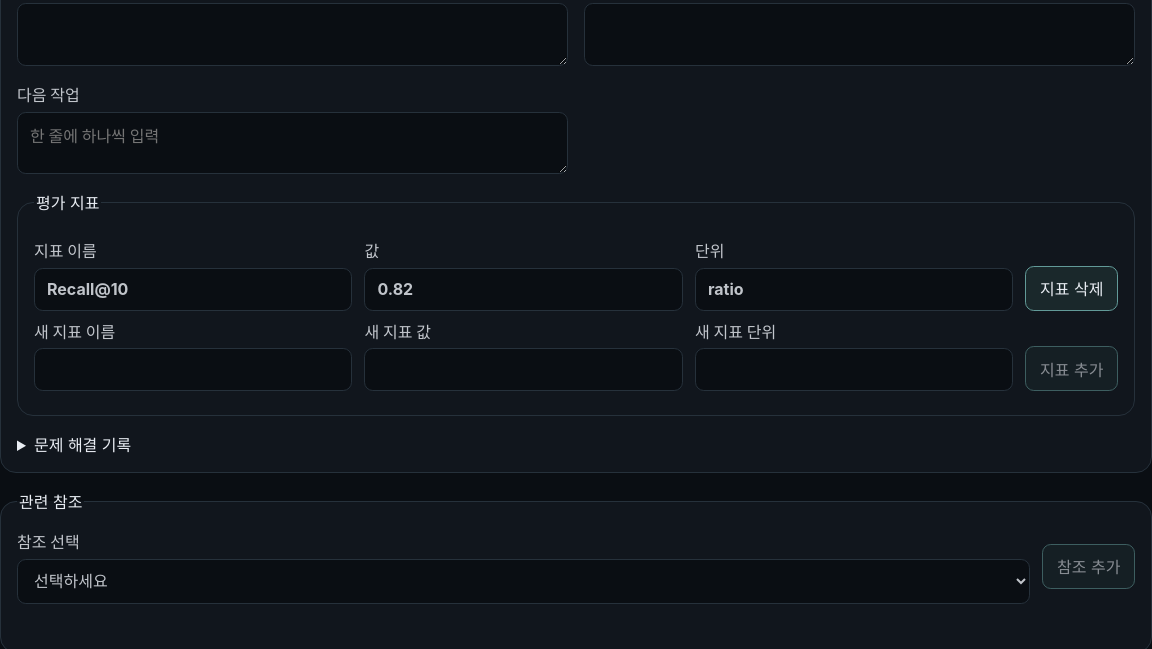
Test: LearningEditor › does not turn a cleared saved metric into a fabricated zero
(page scrolled)
Clear the number field labelled "값" at (524, 289), box [364,268,683,311]
(page scrolled)
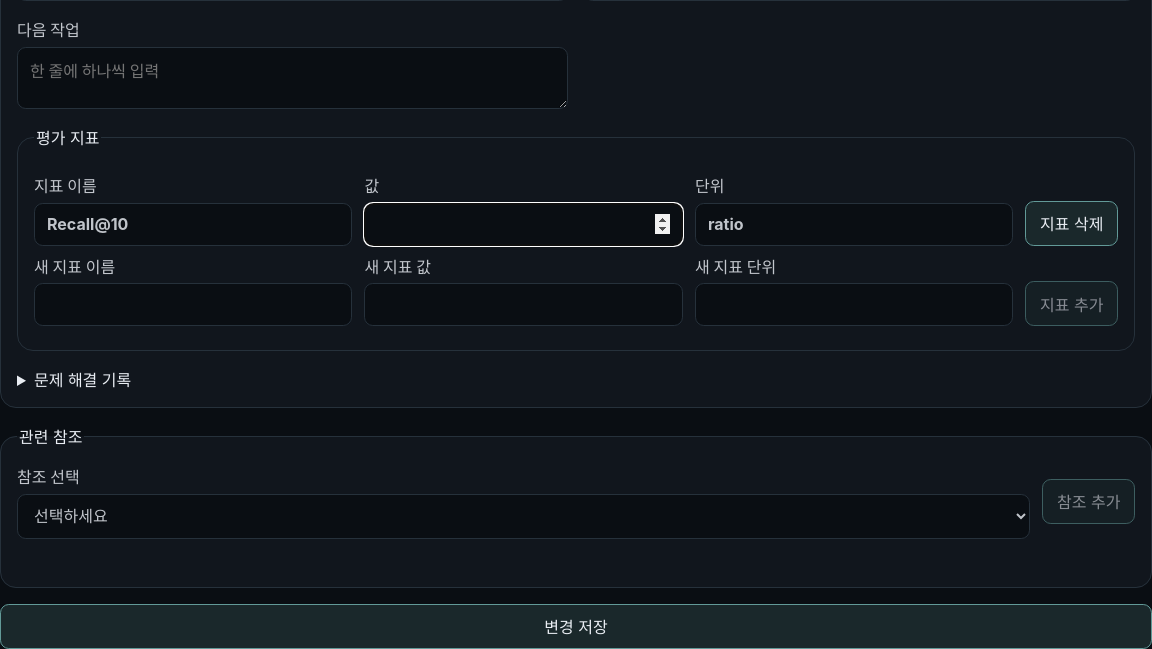
Click the button "변경 저장".
click(576, 626)  # box [0,604,1151,648]
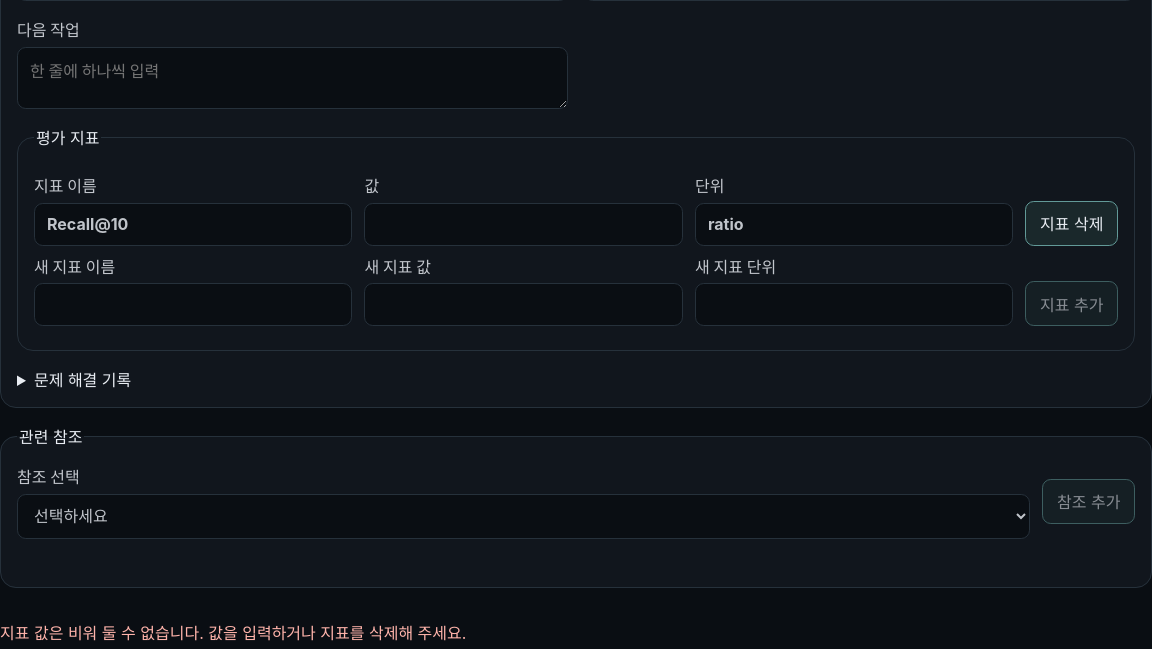
Check: the message shows "지표 값", box [0,622,466,642]
